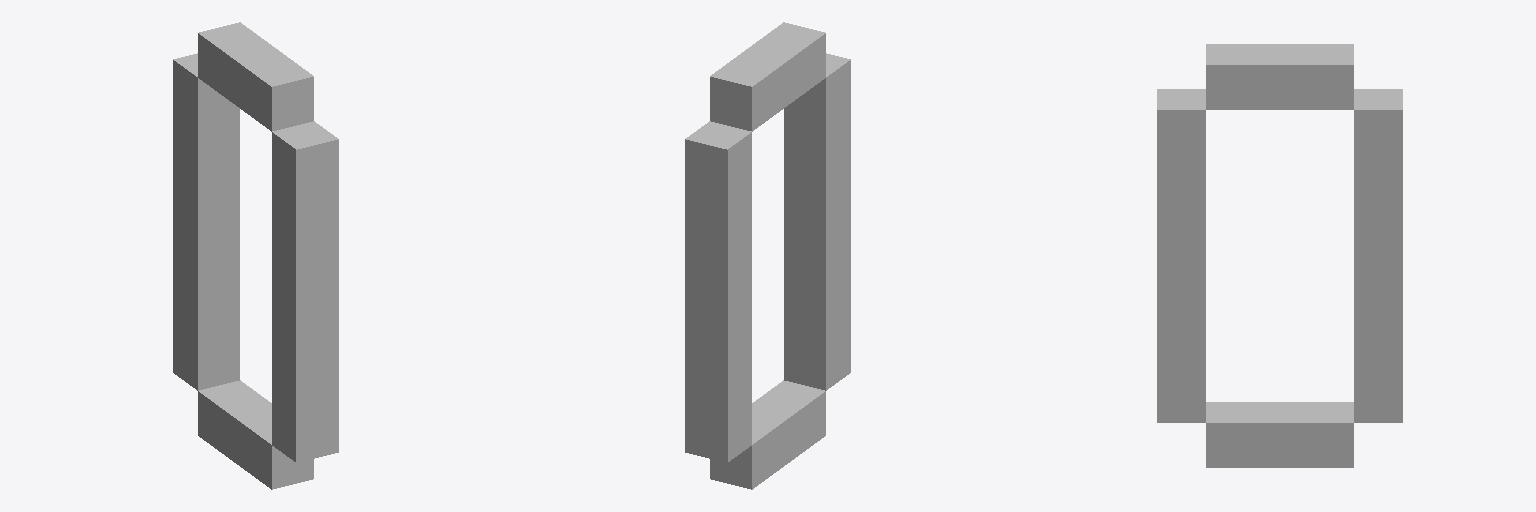
File: dig_0.obj
3 views of the same model, side by side, from view 1: azimuth 30°, elevation 25°; view 2: azimuth 150°, elevation 25°; view 3: azimuth 270°, elevation 25° (orthographic).
Visible parts, largest first — view 1: object 1; view 2: object 1; view 3: object 1.
Boxes of the visible parts, x1=… form: object 1: x1=173, y1=22, x2=338, y2=489; object 1: x1=685, y1=22, x2=850, y2=489; object 1: x1=1157, y1=44, x2=1402, y2=467.
Bounding box in the file's own units: 0.1 × 0.9 × 0.5.